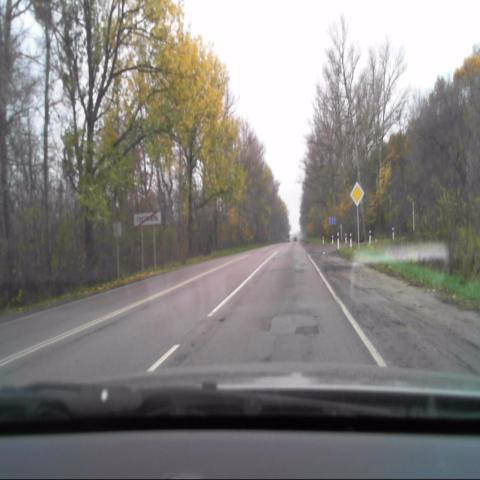2_1: (350, 180, 364, 209)
